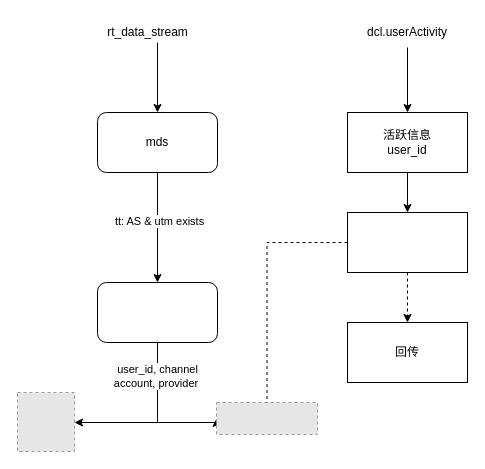
Some shapes in this 485 by 469 pixel diagram are drawn without their labels. Grey dashed boxes stand in for pictures. The box of each missing label's shape, as (x1, y1, x2, y2) in pixels:
affiliate: (96, 282, 218, 342)
匹配 UTM: (346, 212, 468, 272)
